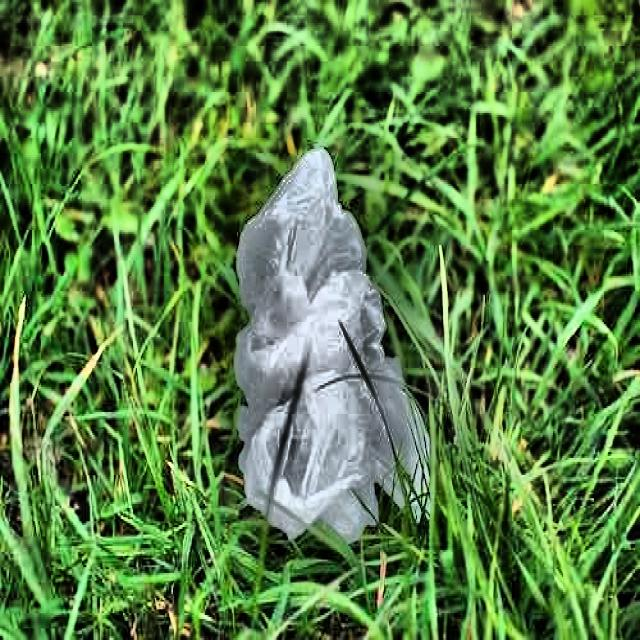Plastic: (225, 136, 450, 560)
